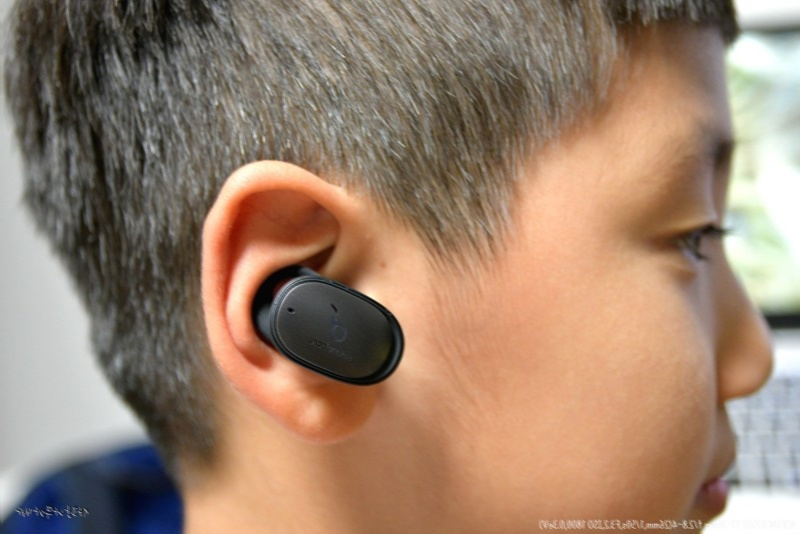earphone: (198, 161, 403, 445)
